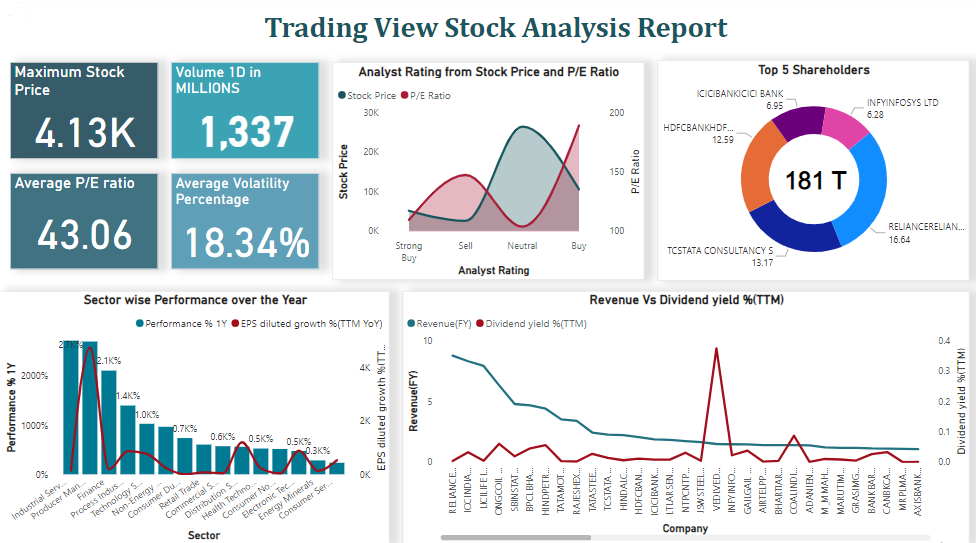

What the dashboard file says about the page in this screenshot:
{"tool":"powerbi","page":{"name":"TradingView","canvas":[1280,720],"ordinal":0},"visuals":[{"type":"donutChart","title":"Top 5 Shareholders","fields":{"Category":["cap.Symbol"],"Y":["Max(cap.Market cap)"]},"box":[859.7,80.6,409,289.4],"z":0},{"type":"lineChart","title":"Revenue Vs Dividend yield %(TTM)","fields":{"Y2":["Sum(revenue.Dividend yield %(TTM))"],"Category":["revenue.Symbol"],"Y":["Sum(revenue.Revenue(FY))"]},"box":[525.6,383,743,331.2],"z":1000},{"type":"textbox","box":[0,420.5,223.2,159.8],"z":2000},{"type":"actionButton","box":[0,0,100,40],"z":3000},{"type":"card","title":"Maximum Stock Price","fields":{"Values":["Max(gainers.Price)"]},"box":[13,83.5,194.4,126.7],"z":4000},{"type":"lineClusteredColumnComboChart","title":"Sector wise Performance over the Year ","fields":{"Category":["performing.Sector"],"Y":["Max(performing.Performance % 1Y)"],"Y2":["Max(performing.EPS diluted growth %(TTM YoY))"]},"box":[0,383,509.8,331.2],"z":5000},{"type":"card","title":"Average Volatility Percentage","fields":{"Values":["Avg(volatile.Volatility 1D)"]},"box":[223.2,229,194.4,126],"z":6000},{"type":"card","title":"Volume 1D in MILLIONS","fields":{"Values":["Sum(cap.Volume 1D)"]},"box":[223.2,83.5,194.4,126.7],"z":7000},{"type":"card","title":"Average P/E ratio","fields":{"Values":["Avg(cap.P/E)"]},"box":[13,229,194.4,126],"z":8000},{"type":"areaChart","title":"Analyst Rating from Stock Price and P/E Ratio","fields":{"Category":["cap.Analyst Rating"],"Y":["Max(cap.Price)"],"Y2":["Max(cap.P/E)"]},"box":[434.9,83.5,409,285.1],"z":9000},{"type":"textbox","box":[50.4,10.1,1198.1,60.5],"z":10000},{"type":"textbox","box":[1016.6,210.2,100.8,54.7],"z":11000}]}

Visuals, with their boxes in screenshot pixels (x1, y1, x2, y2), scaled from the page's 1280x720 canvas onto the 976x543 screenshot:
"Top 5 Shareholders" donutChart: select_region(656, 61, 967, 279)
"Revenue Vs Dividend yield %(TTM)" lineChart: select_region(401, 289, 967, 539)
textbox: select_region(0, 317, 170, 438)
actionButton: select_region(0, 0, 76, 30)
"Maximum Stock Price" card: select_region(10, 63, 158, 159)
"Sector wise Performance over the Year " lineClusteredColumnComboChart: select_region(0, 289, 389, 539)
"Average Volatility Percentage" card: select_region(170, 173, 318, 268)
"Volume 1D in MILLIONS" card: select_region(170, 63, 318, 159)
"Average P/E ratio" card: select_region(10, 173, 158, 268)
"Analyst Rating from Stock Price and P/E Ratio" areaChart: select_region(332, 63, 643, 278)
textbox: select_region(38, 8, 952, 53)
textbox: select_region(775, 159, 852, 200)
